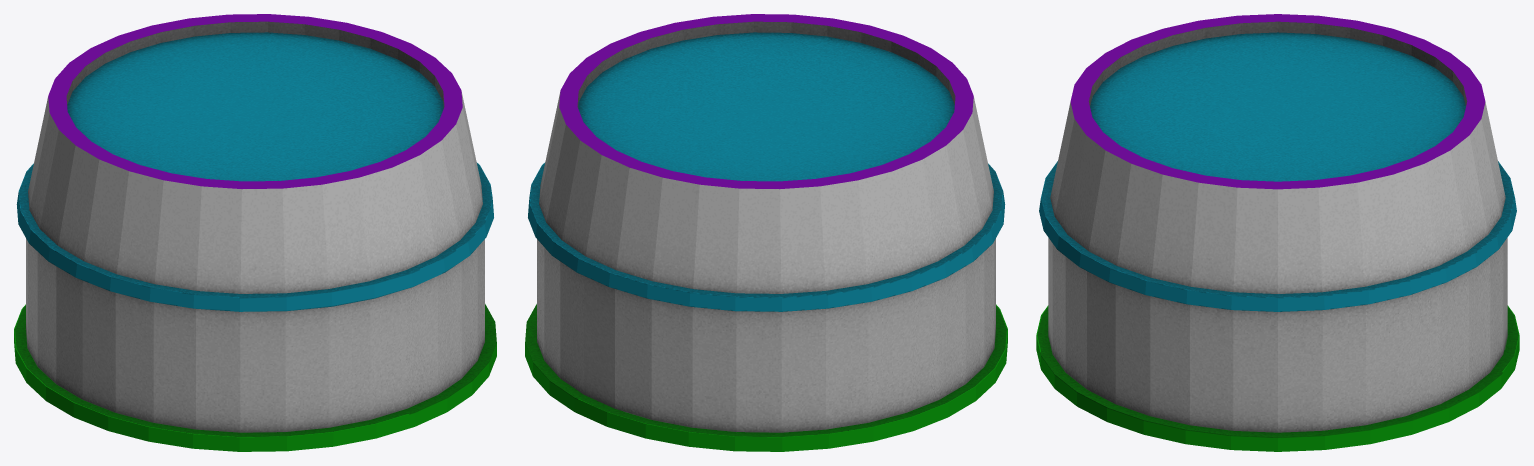
File: ExportedBlenderFBXFile.fbx
3 views of the same model, side by side, from view 1: azimuth 30°, elevation 25°; view 2: azimuth 150°, elevation 25°; view 3: azimuth 270°, elevation 25° (orthographic).
Visible parts, largest first — view 1: Cylinder; view 2: Cylinder; view 3: Cylinder.
Boxes of the visible parts, box(x1,y1,x2,y2) form: Cylinder: box(14, 14, 496, 451); Cylinder: box(525, 14, 1007, 451); Cylinder: box(1036, 14, 1519, 451).
Size of the model in its own units: 1.16 by 0.6577 by 1.16.
